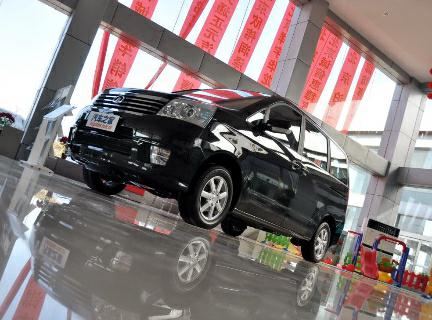长城-V80: (65, 82, 358, 267)
